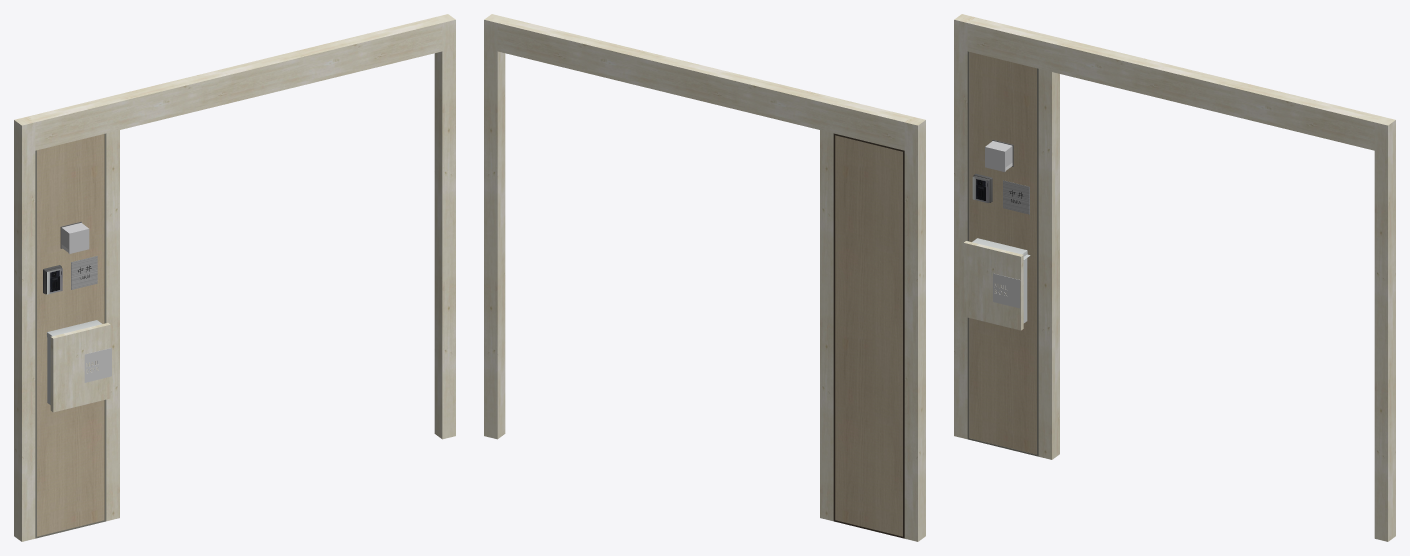
The model's file is esm5_whitepine.fbx.
3 renders of one model, left to right at view 1: azimuth 30°, elevation 25°; view 2: azimuth 150°, elevation 25°; view 3: azimuth 330°, elevation 25°, orthographic.
Visible parts, largest first — view 1: esm5-whitepine; view 2: esm5-whitepine; view 3: esm5-whitepine.
Part boxes in pixels (<box>): esm5-whitepine: <box>14,14,455,541</box>; esm5-whitepine: <box>484,14,925,541</box>; esm5-whitepine: <box>954,14,1395,541</box>.
Size of the model in its own units: 240 by 220 by 18.87.
Materials: 16 (7 with a texture image).
